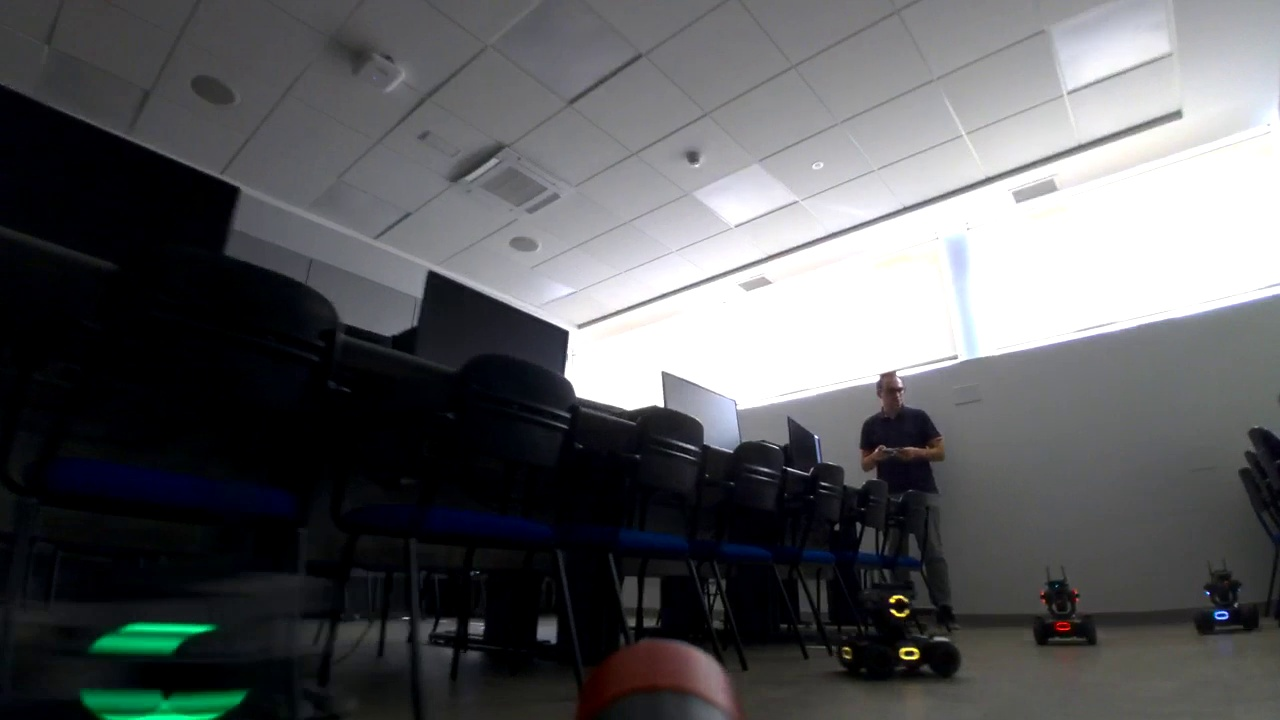robot: (837, 561, 961, 684), (1034, 564, 1096, 644), (1194, 558, 1260, 632)
